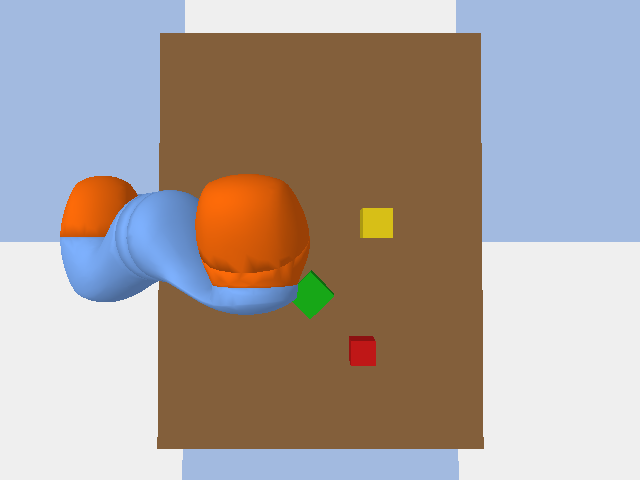green_obj: (292, 270, 333, 318)
red_obj: (349, 336, 375, 365)
yellow_obj: (360, 208, 392, 237)
